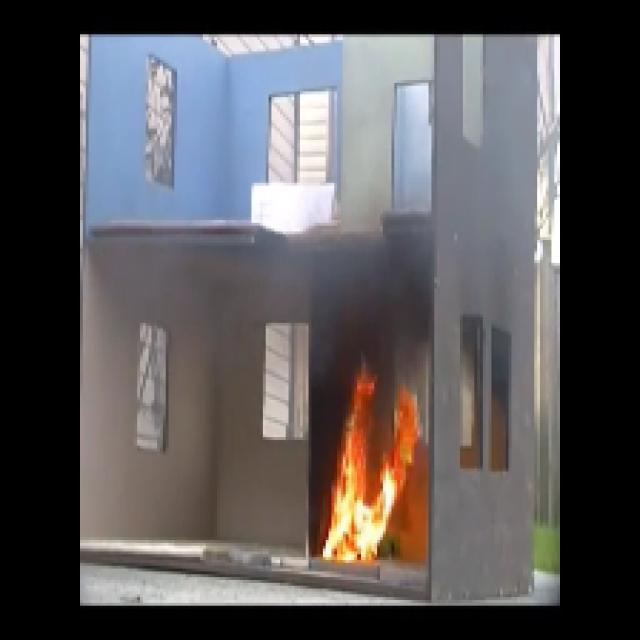Fire: (318, 385, 405, 568)
Smoke: (322, 249, 420, 329)
